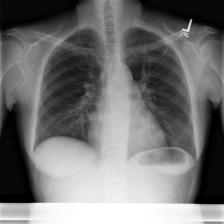normal: (31, 24, 199, 161)
